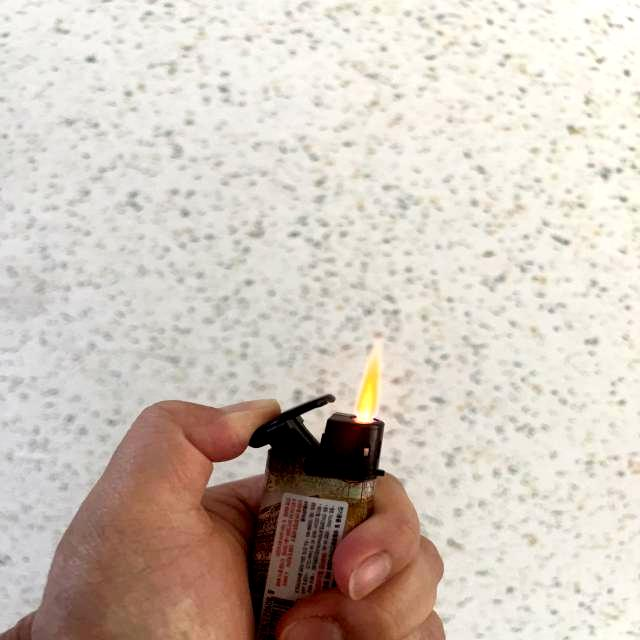fire: (354, 351, 382, 417)
